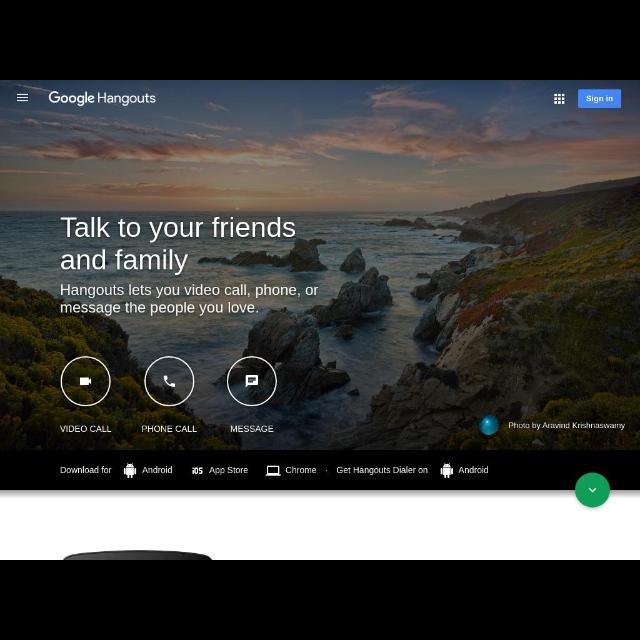backgroundimage: (1, 80, 639, 450)
button: (227, 356, 277, 406), (145, 356, 195, 406), (61, 356, 111, 406), (575, 473, 609, 507)
icon: (122, 464, 138, 480), (266, 465, 280, 477), (442, 462, 452, 478), (162, 376, 175, 388), (246, 375, 256, 389), (554, 92, 564, 105), (78, 378, 92, 387), (16, 92, 28, 102), (192, 466, 202, 474), (590, 488, 596, 492)
text: (61, 216, 295, 276), (59, 283, 318, 315), (48, 90, 156, 106), (508, 421, 624, 429), (337, 466, 427, 474), (59, 424, 112, 434), (59, 466, 112, 476), (142, 425, 198, 433), (142, 465, 172, 475), (229, 426, 273, 432), (286, 466, 316, 474), (459, 466, 489, 474), (586, 94, 614, 102), (210, 468, 247, 474)
textbutton: (579, 90, 621, 108)
